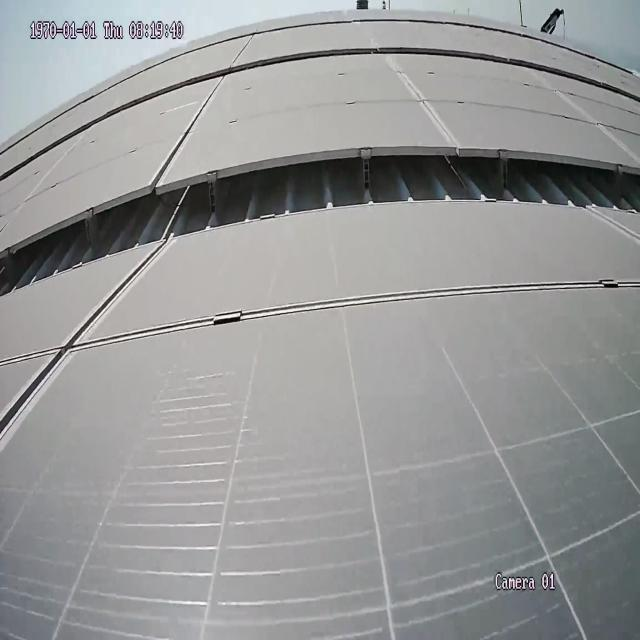interior panel: (0, 249, 637, 456), (533, 78, 638, 156), (151, 84, 223, 175), (381, 61, 463, 140)
outher panel: (0, 153, 640, 294)
